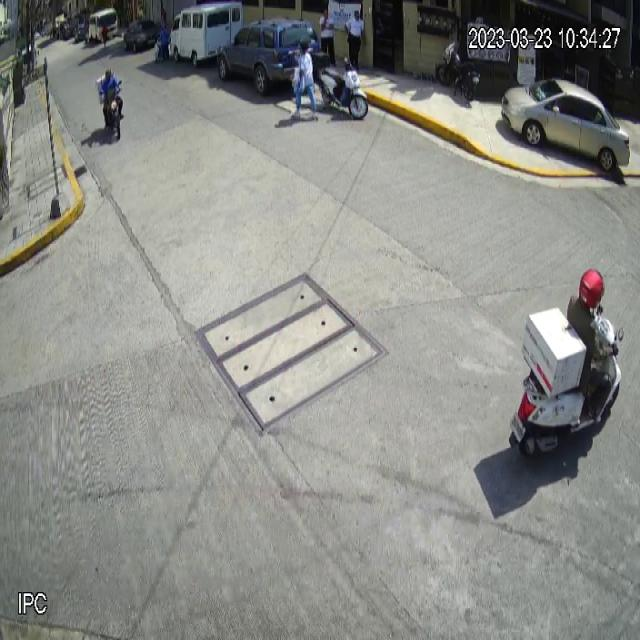Car: (501, 79, 631, 172), (216, 16, 322, 96)
Motorcycle: (508, 303, 626, 462), (311, 51, 368, 121)
Van: (169, 0, 243, 67)
